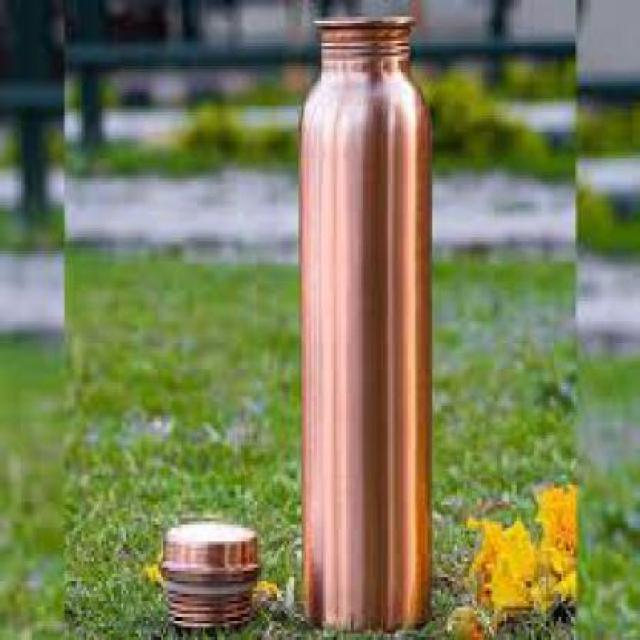Drinking: (286, 9, 440, 634)
